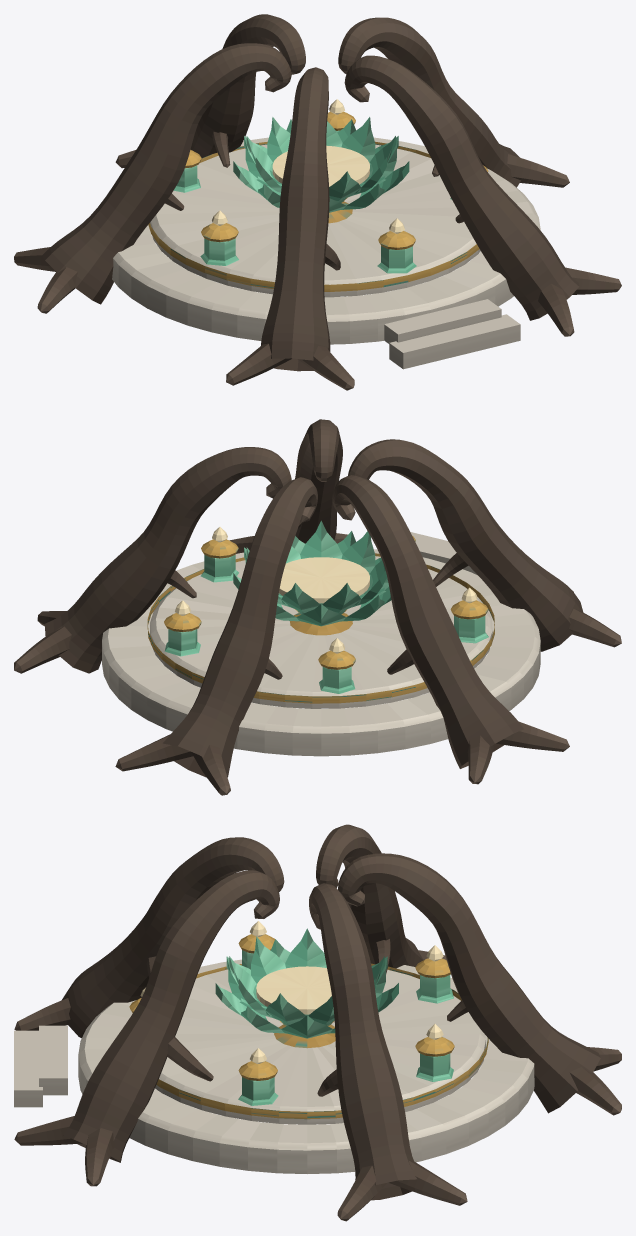
Rendered from Yggdrasil_Altar.fbx.
The picture shows the model from 3 angles, top to bottom: view 1: azimuth 30°, elevation 25°; view 2: azimuth 150°, elevation 25°; view 3: azimuth 270°, elevation 25°; orthographic projection. The views are drawn at different scales.
Parts seen in each view (by area): view 1: YG_AltarRoots, YG_Altar, YG_AltarPool; view 2: YG_AltarRoots, YG_Altar, YG_AltarPool; view 3: YG_AltarRoots, YG_Altar, YG_AltarPool.
Boxes of the visible parts, box(x1,y1,x2,y2) form: YG_AltarRoots: box(14, 14, 621, 390); YG_Altar: box(112, 111, 540, 369); YG_AltarPool: box(272, 145, 369, 186); YG_AltarRoots: box(14, 419, 621, 795); YG_Altar: box(102, 520, 540, 756); YG_AltarPool: box(279, 557, 369, 603); YG_AltarRoots: box(14, 824, 621, 1221); YG_Altar: box(14, 928, 534, 1173); YG_AltarPool: box(256, 966, 331, 1014).
Bounding box in the file's own units: 30.65 × 13.33 × 29.24.
Materials: 1 (1 with a texture image).
